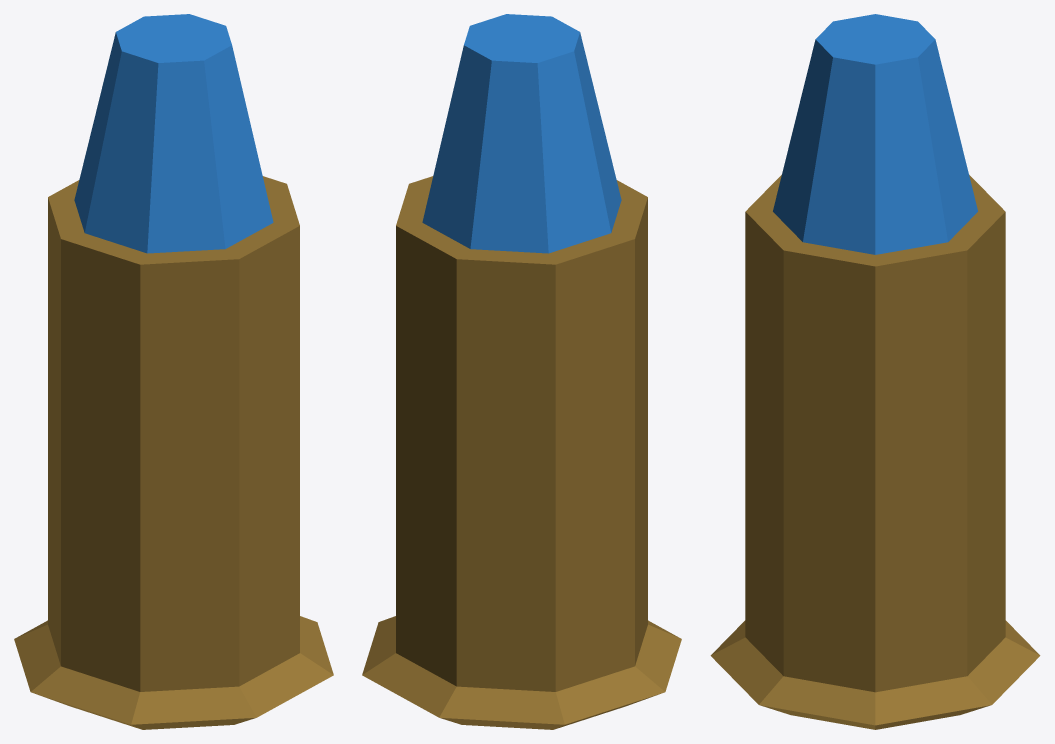
File: cartridge-electrifying.glb
The picture shows the model from 3 angles, left to right: view 1: azimuth 30°, elevation 25°; view 2: azimuth 150°, elevation 25°; view 3: azimuth 270°, elevation 25°; orthographic projection.
Visible parts, largest first — view 1: m; view 2: m; view 3: m.
Part boxes in pixels (x1,y1,x2,y2): m: [14, 14, 333, 729]; m: [362, 14, 681, 729]; m: [710, 14, 1040, 729].
Size of the model in its own units: 0.028 by 0.06 by 0.028.
